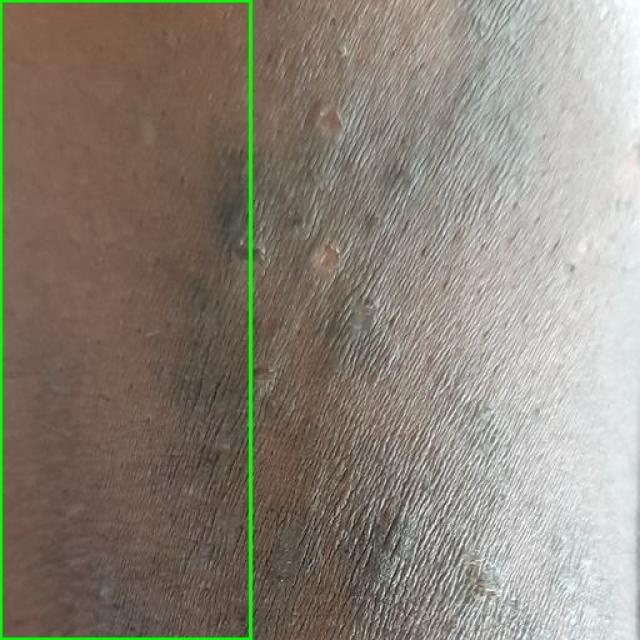Contact Dermatitis: (0, 0, 250, 639)
